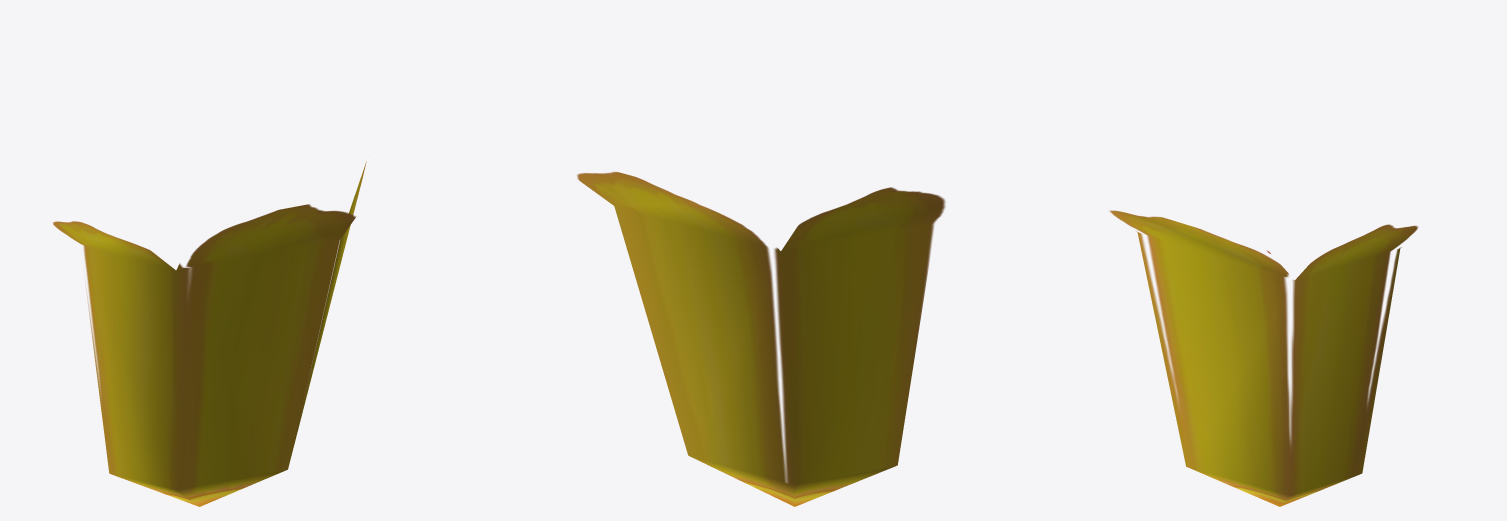
The model's file is flower-petal-niubuejdvm-transformed.glb.
The picture shows the model from 3 angles, left to right: view 1: azimuth 30°, elevation 25°; view 2: azimuth 150°, elevation 25°; view 3: azimuth 270°, elevation 25°; orthographic projection. The views are drawn at different scales.
Parts seen in each view (by area): view 1: Petal_4; view 2: Petal_4; view 3: Petal_4.
Boxes of the visible parts, x1,y1,x2,y2 form: Petal_4: [53, 161, 366, 506]; Petal_4: [577, 171, 945, 506]; Petal_4: [1109, 210, 1418, 506].
Bounding box in the file's own units: 0.3291 × 0.2521 × 0.2444.
1 material, 1 textured.
